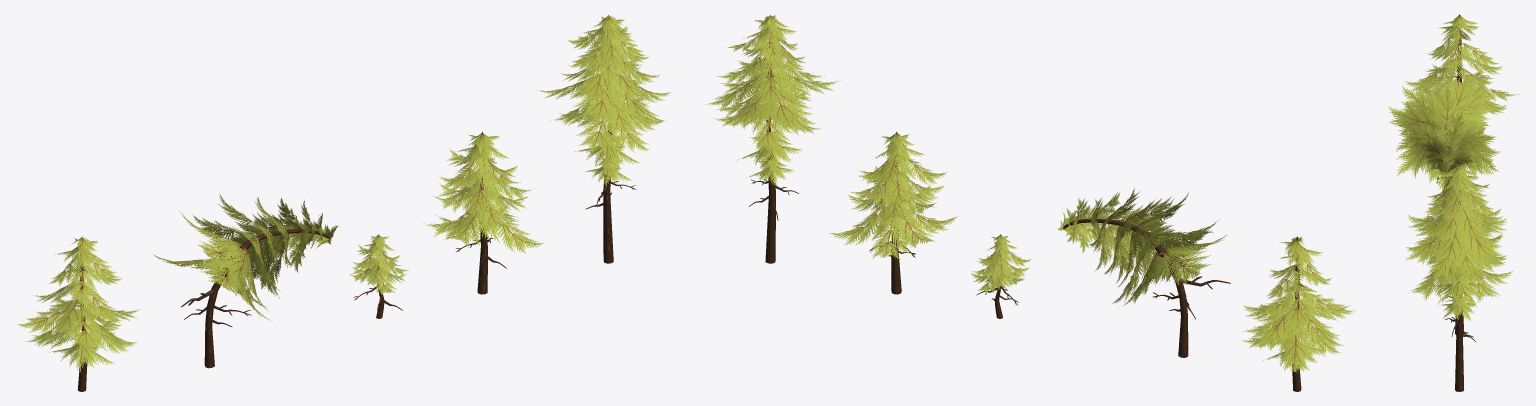
Rendered from pine_trees_free_model.glb.
3 renders of one model, left to right at view 1: azimuth 30°, elevation 25°; view 2: azimuth 150°, elevation 25°; view 3: azimuth 270°, elevation 25°, orthographic. The views are drawn at different scales.
Parts seen in each view (by area): view 1: PineTree_2, PineTree_4, PineTree_5, PineTree_1, PineTree_3; view 2: PineTree_2, PineTree_4, PineTree_1, PineTree_5, PineTree_3; view 3: PineTree_2, PineTree_4, PineTree_5, PineTree_1.
Part boxes in pixels (x1=…): PineTree_2: x1=536, y1=15, x2=670, y2=263; PineTree_4: x1=153, y1=193, x2=338, y2=368; PineTree_5: x1=17, y1=236, x2=141, y2=391; PineTree_1: x1=422, y1=131, x2=543, y2=294; PineTree_3: x1=349, y1=234, x2=408, y2=318; PineTree_2: x1=705, y1=14, x2=840, y2=263; PineTree_4: x1=1057, y1=188, x2=1230, y2=357; PineTree_1: x1=829, y1=131, x2=957, y2=294; PineTree_5: x1=1239, y1=236, x2=1355, y2=391; PineTree_3: x1=971, y1=234, x2=1030, y2=318; PineTree_2: x1=1405, y1=164, x2=1507, y2=391; PineTree_4: x1=1388, y1=73, x2=1500, y2=208; PineTree_5: x1=1405, y1=14, x2=1519, y2=129; PineTree_1: x1=1407, y1=193, x2=1512, y2=334.
Bounding box in the file's own units: 18.69 × 6.92 × 3.74.
2 materials, 2 textured.
